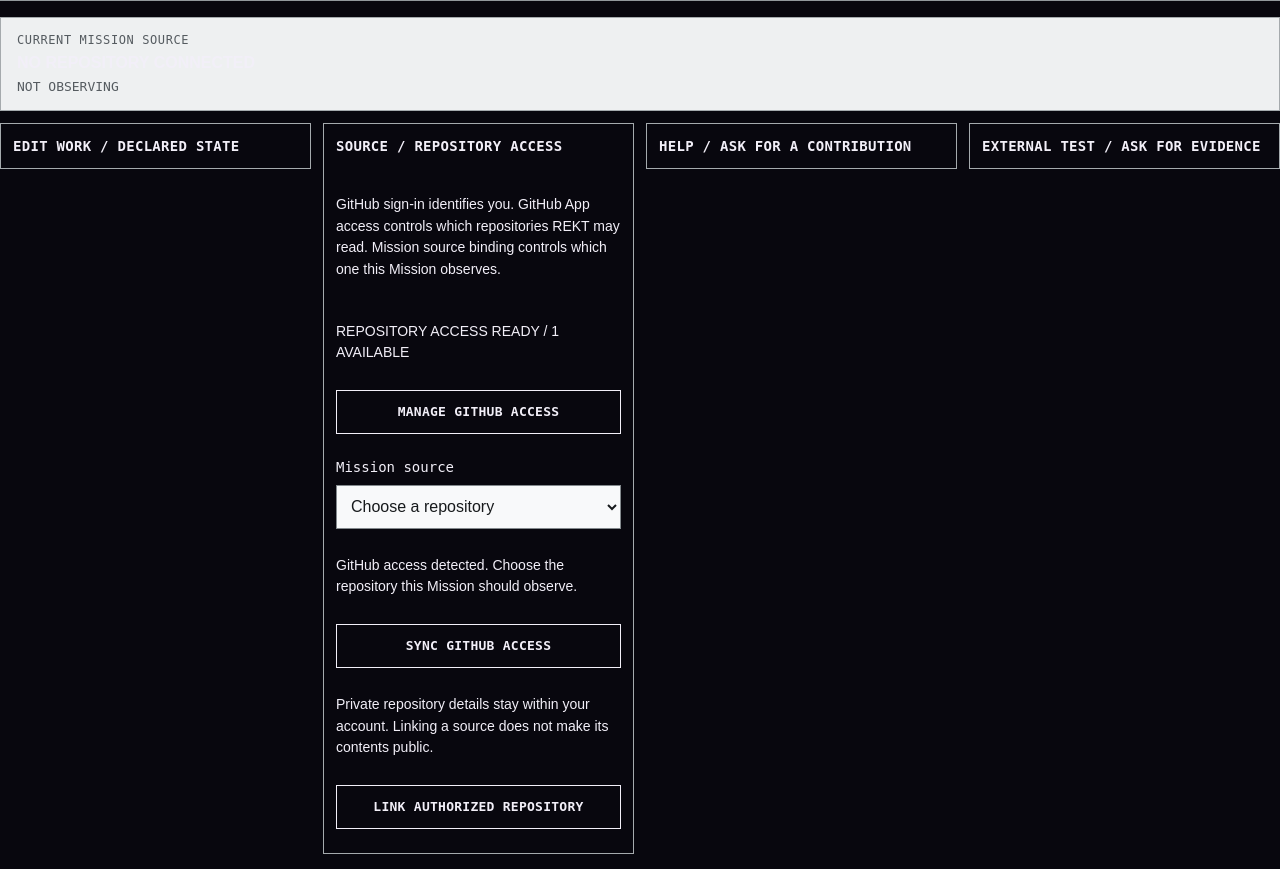
Scenario: GitHub repository sync routing › reconciles through the same-origin API instead of opening another OAuth journey
Check: the text "REPOSITORY ACCESS READY / 1 AVAILABLE" is shown, box [336,323,559,360]
Click the button "SYNC GITHUB ACCESS" at (478, 646), box [336,624,621,668]
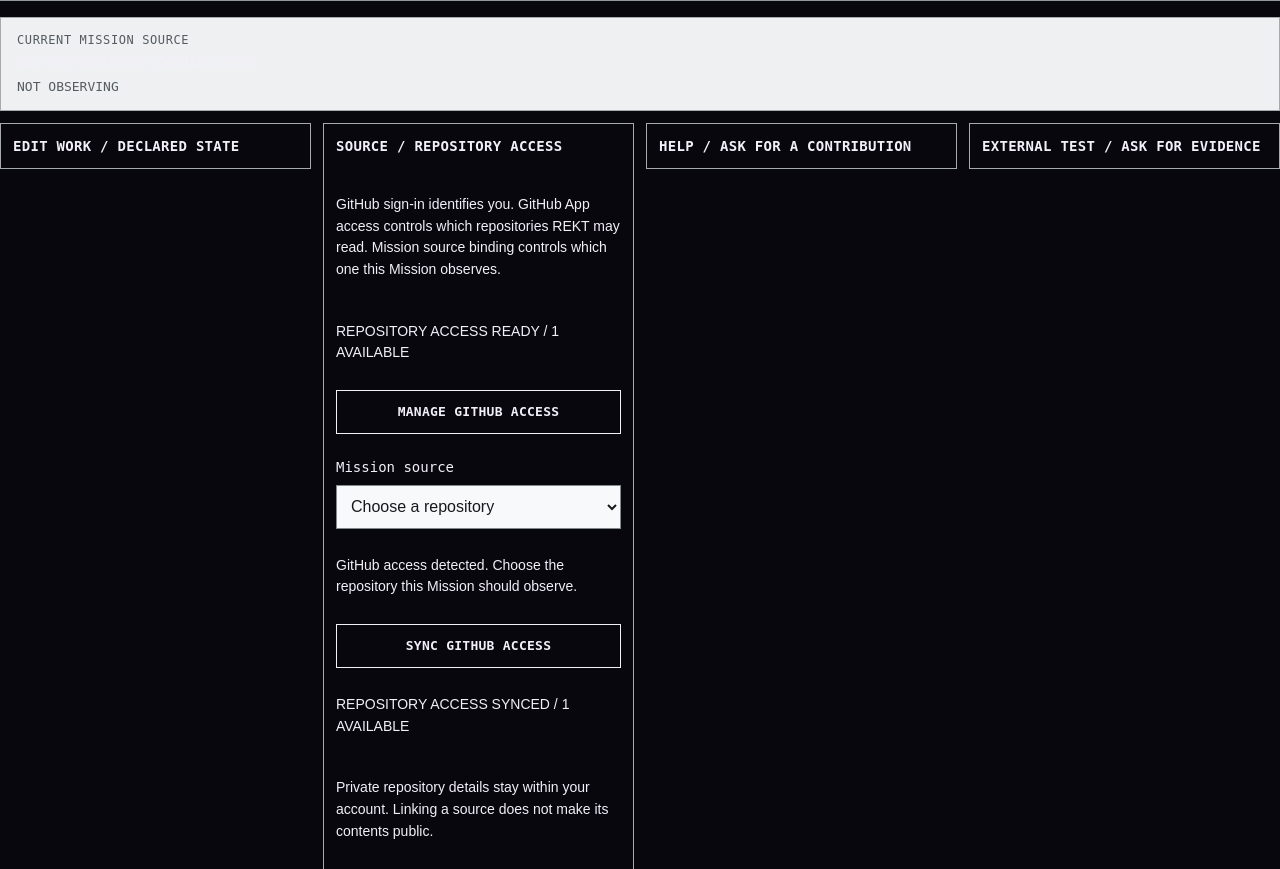
Check: the text "REPOSITORY ACCESS SYNCED / 1 AVAILABLE" is shown, box [336,696,569,734]
